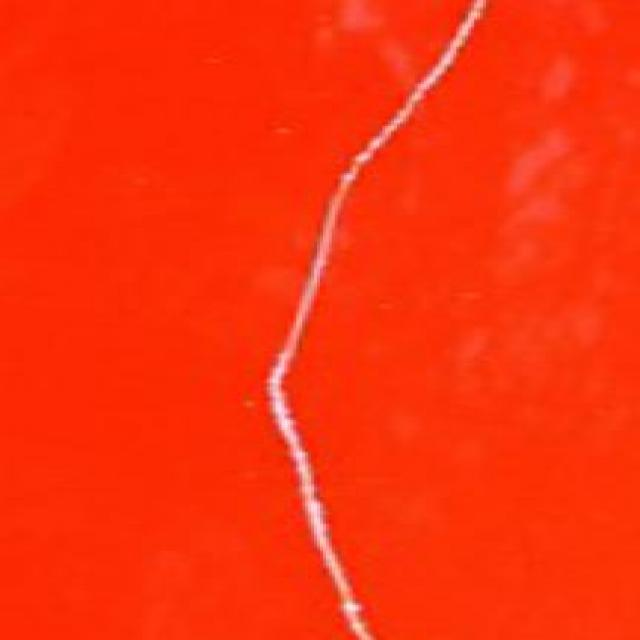scratch: (228, 3, 501, 640)
